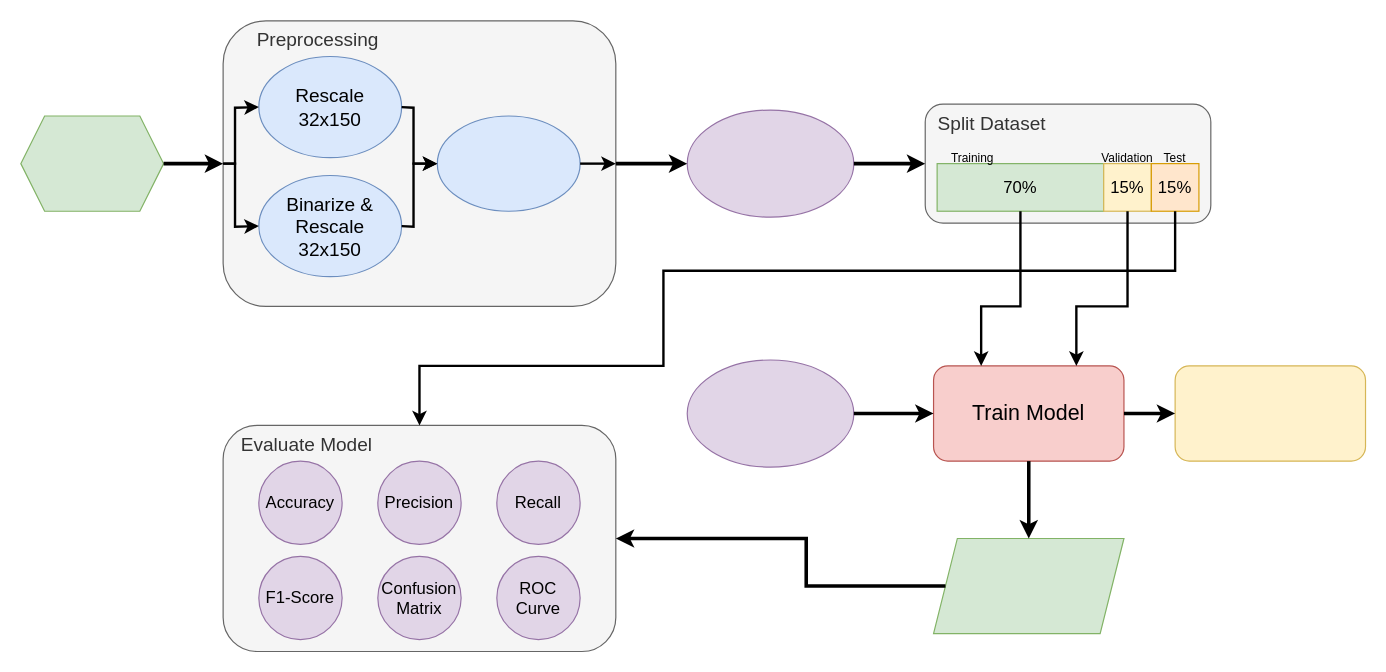
This 1386x672 diagram has some shape labels left out. Each missing label, with the centre of its shape:
"Dataset" goes at point 92,163.
"Load Dataset" goes at point 770,163.
"Load Model" goes at point 770,413.
"Normalize mean=0.2 std=0.2" goes at point 508,163.
"Plot Training Loss & Accuracy" goes at point 1270,413.
"Save Best Model" goes at point 1028,585.
